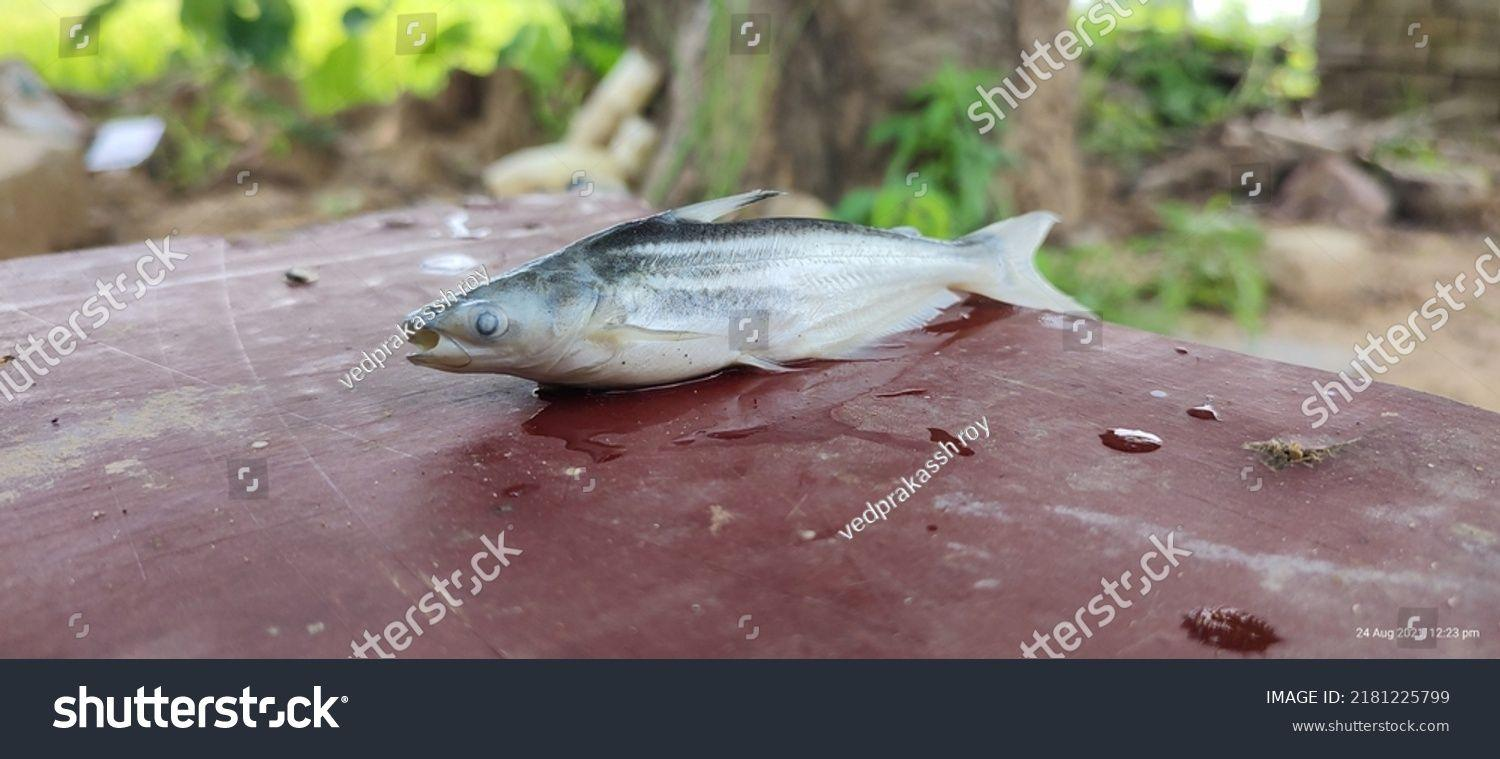Pangasius: (397, 188, 1096, 396)
